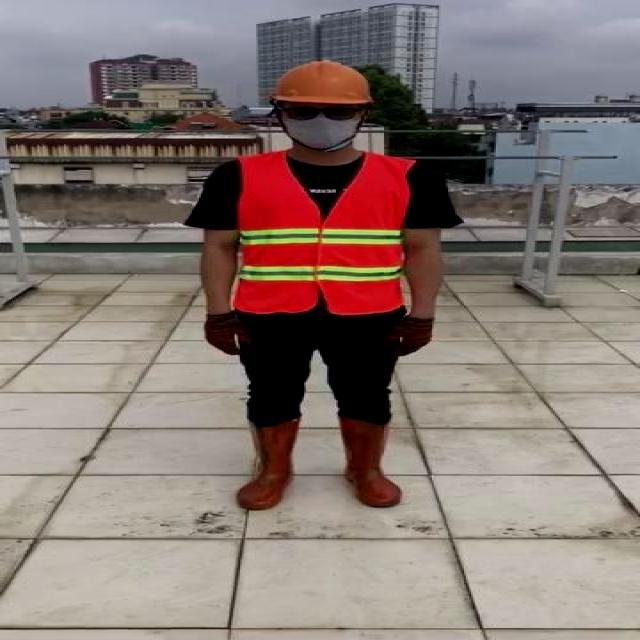boots: (236, 418, 302, 510), (341, 418, 400, 508)
face_mask: (280, 104, 364, 150)
glasses: (275, 102, 369, 124)
hand_glove: (379, 312, 437, 358), (201, 314, 254, 356)
head_helmet: (268, 59, 372, 108)
person: (197, 58, 439, 514)
vest: (230, 152, 412, 312)
